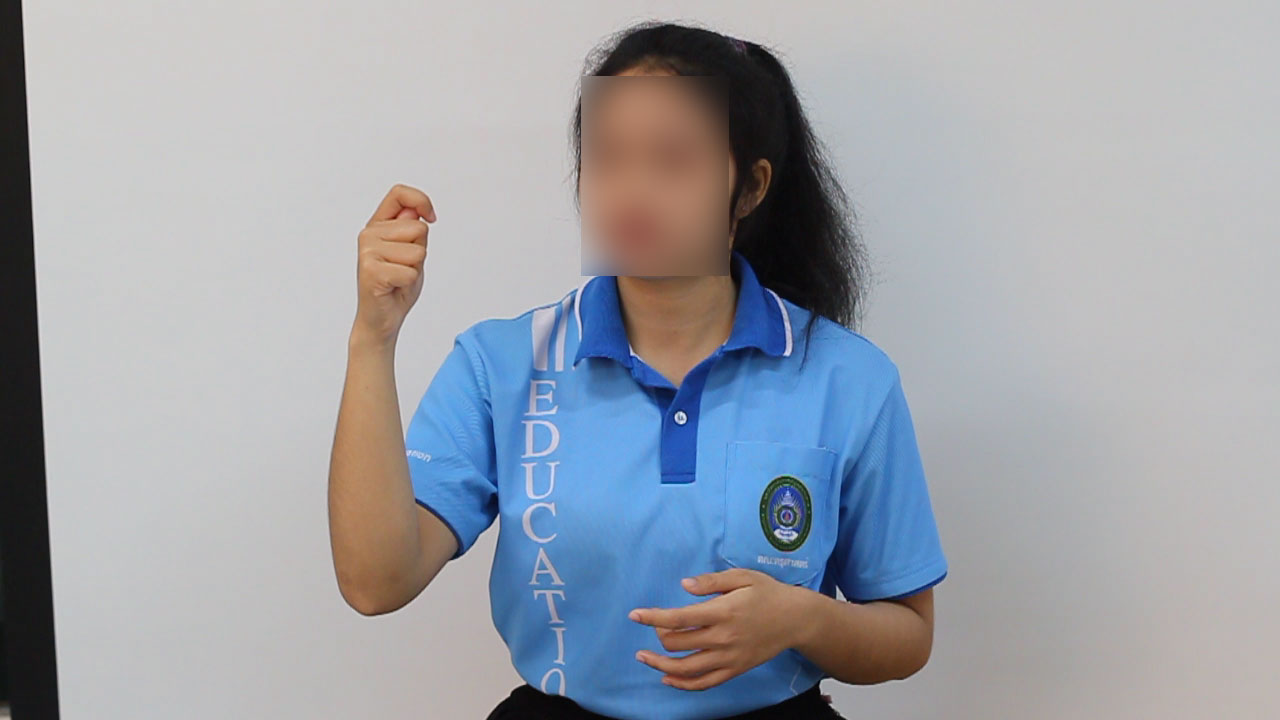or: (349, 171, 441, 343)
